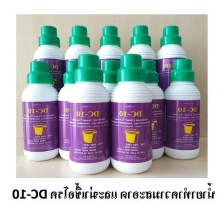cleaning_solution: (106, 52, 155, 177), (65, 52, 112, 177), (86, 58, 132, 160), (54, 58, 97, 162), (19, 58, 61, 163), (163, 56, 203, 161), (130, 58, 166, 163), (30, 22, 68, 113), (60, 22, 96, 114), (125, 22, 159, 108), (158, 22, 190, 109), (96, 22, 127, 109)
